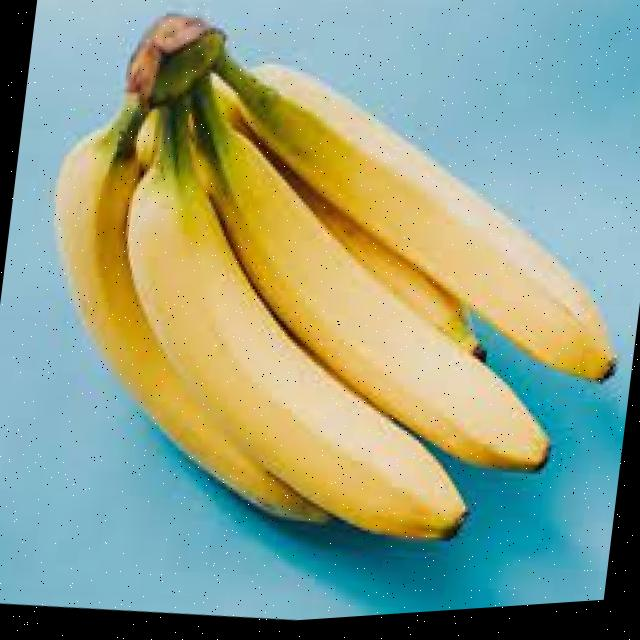Banana: (127, 113, 464, 543), (198, 94, 548, 475), (233, 72, 614, 387), (57, 89, 324, 525)
